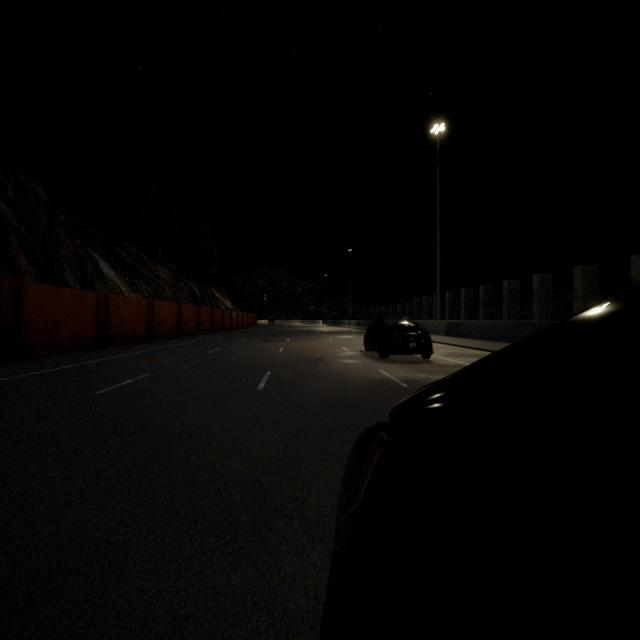Traffic_Signs: (232, 312, 236, 317)
Vehicle: (321, 284, 639, 638), (364, 316, 434, 359), (268, 316, 275, 326)
